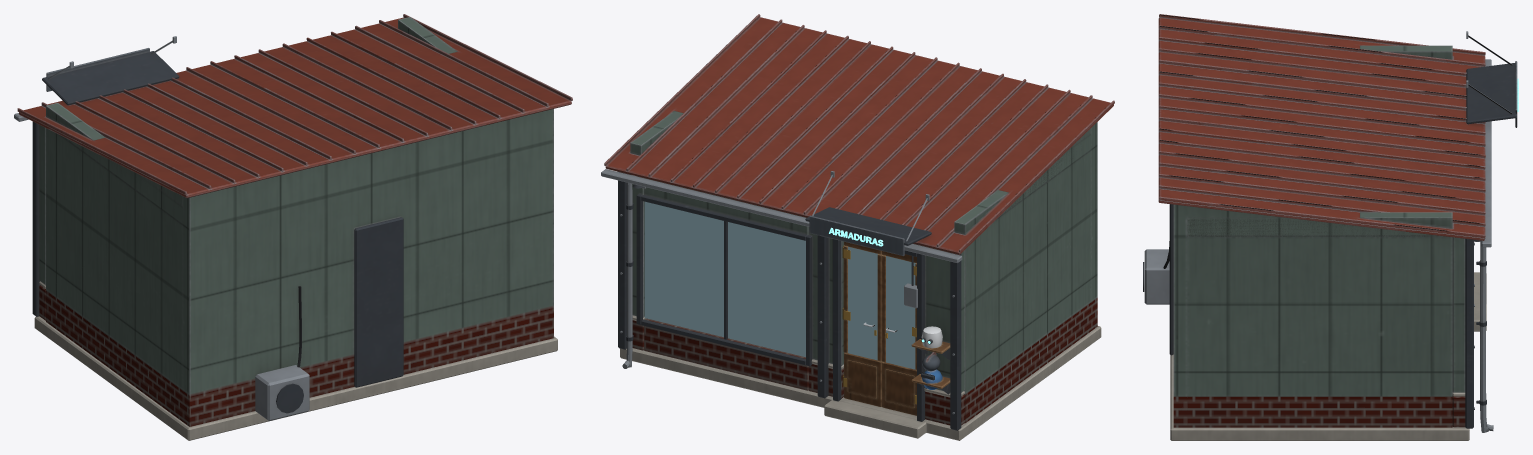
The model's file is tienda_armaduras.fbx.
The picture shows the model from 3 angles, left to right: view 1: azimuth 30°, elevation 25°; view 2: azimuth 150°, elevation 25°; view 3: azimuth 270°, elevation 25°; orthographic projection. The views are drawn at different scales.
Visible parts, largest first — view 1: tienda_armaduras; view 2: tienda_armaduras, tienda_armaduras_cristal, tienda_armaduras_puerta_izq_cristal, tienda_armaduras_puerta_izq, tienda_armaduras_puerta_der_cristal, tienda_armaduras_puerta_der; view 3: tienda_armaduras.
Part boxes in pixels (left/top/right/bottom): tienda_armaduras: left=14, top=14, right=572, bottom=440; tienda_armaduras: left=601, top=14, right=1114, bottom=440; tienda_armaduras_cristal: left=644, top=201, right=805, bottom=357; tienda_armaduras_puerta_izq_cristal: left=848, top=246, right=877, bottom=360; tienda_armaduras_puerta_izq: left=842, top=241, right=882, bottom=406; tienda_armaduras_puerta_der_cristal: left=886, top=256, right=915, bottom=369; tienda_armaduras_puerta_der: left=881, top=251, right=916, bottom=415; tienda_armaduras: left=1143, top=14, right=1517, bottom=440.
Bounding box in the file's own units: 12.8 × 8.15 × 11.05.
6 materials, 1 textured.
